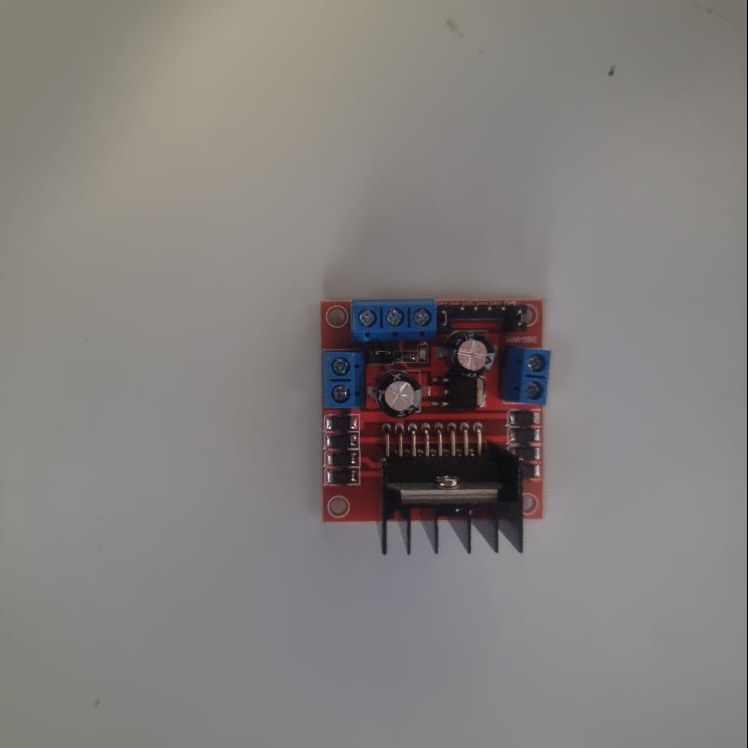MOTOR: (319, 299, 555, 557)
